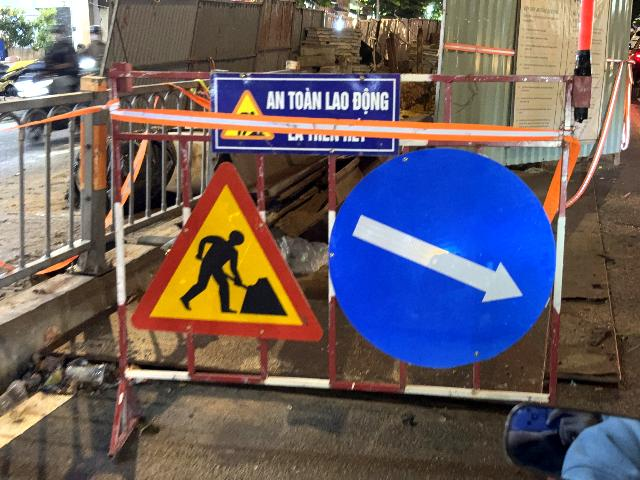cong-truong-dang-thi-cong: (132, 160, 322, 343)
huong-phai-di-vong-chuong-ngai-vat: (328, 148, 556, 369)
